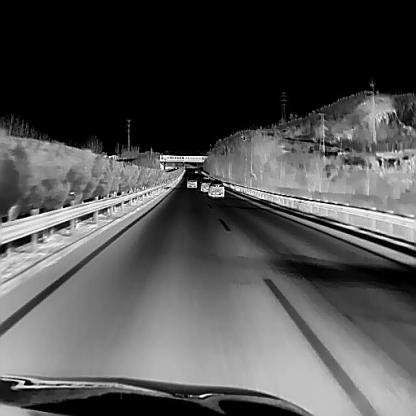car: (208, 180, 224, 196), (200, 175, 210, 191), (185, 176, 197, 187)
